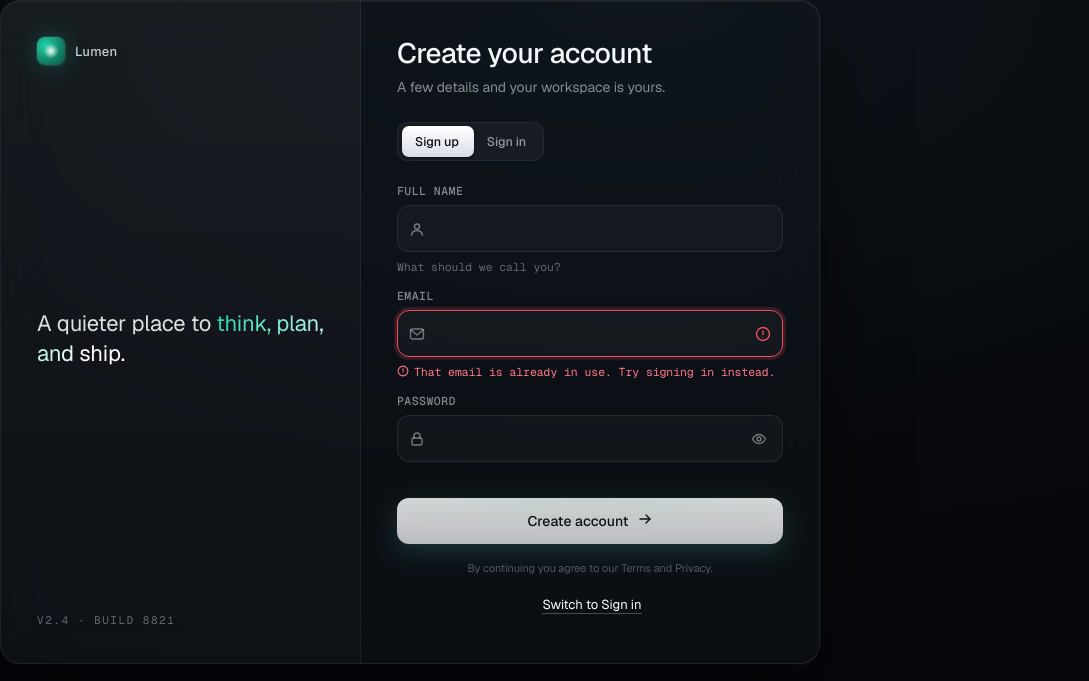
Scenario: SignUpForm inside AuthCard — Switch to Sign in affordance › clicking "Switch to Sign in" pre-fills the SignInForm with the typed email
This screenshot has width=1089, height=681.
Click the button "Switch to Sign in" at (592, 605), box [542, 596, 642, 614]
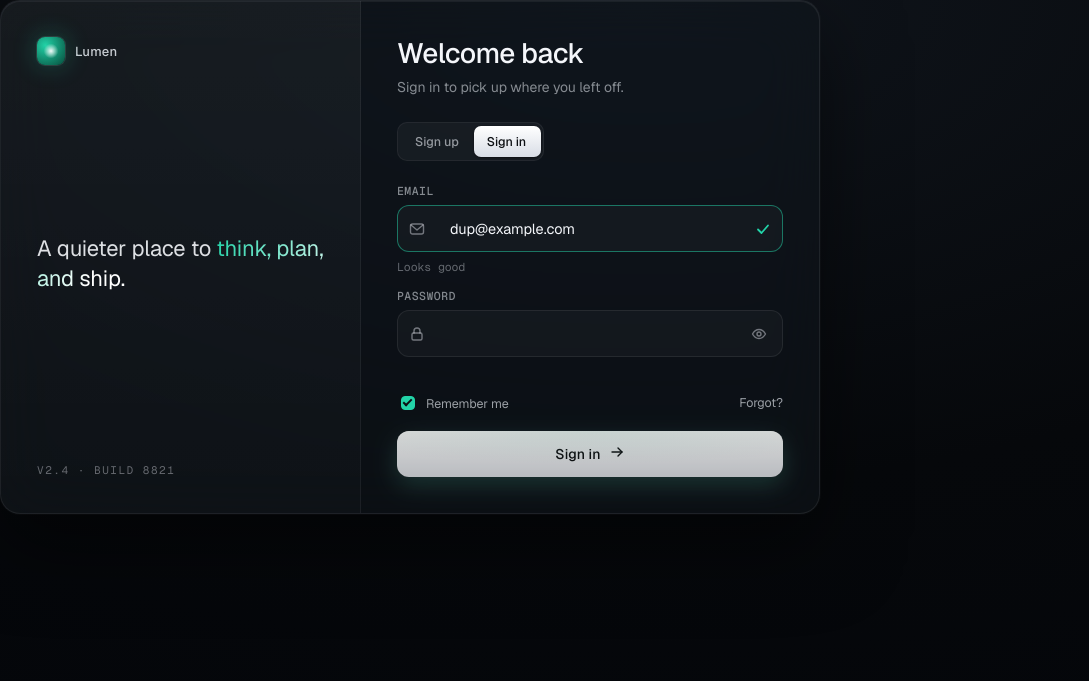
Expected: the heading "Welcome back" is shown, [397, 35, 584, 71]
Expected: the field labelled "Email" holds "dup@example.com", [436, 206, 744, 251]
